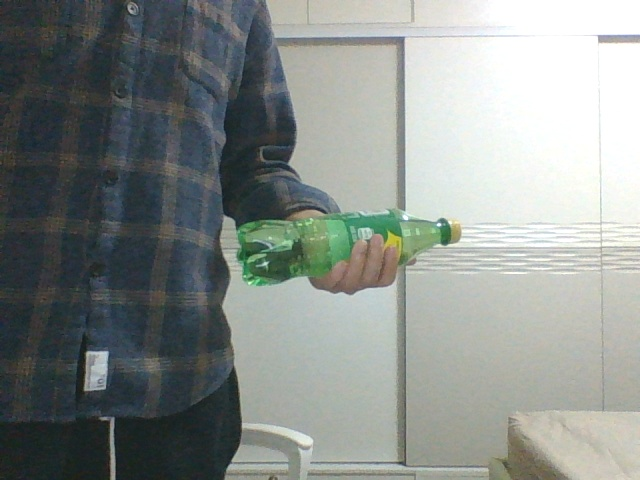Sprite: (238, 208, 462, 286)
